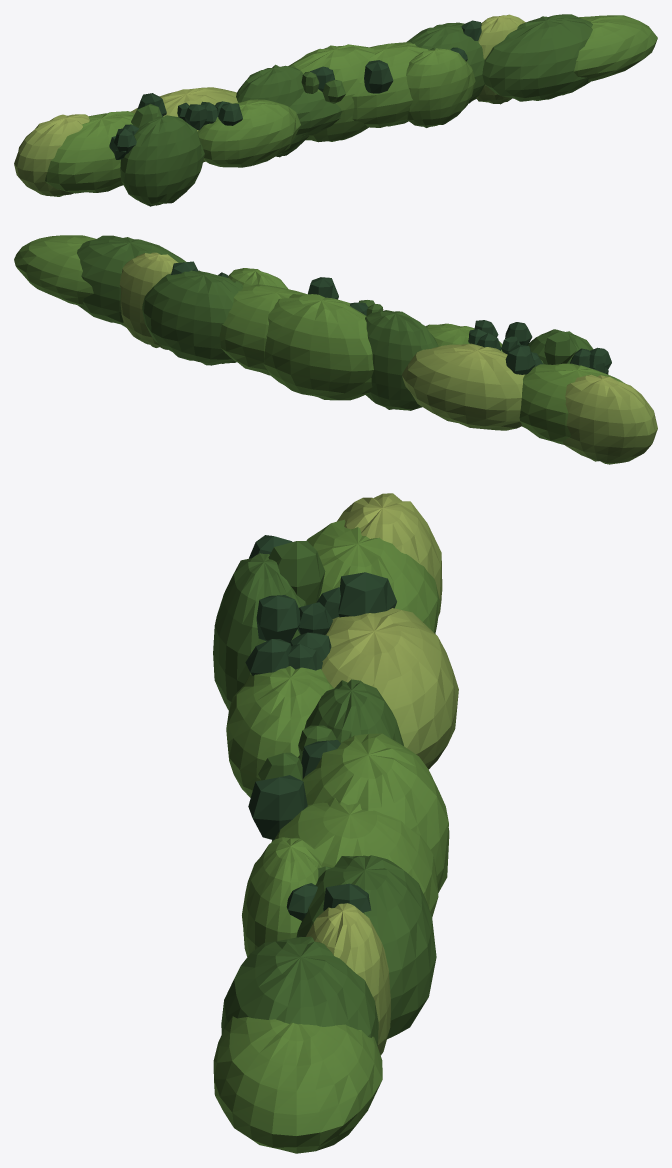
The model's file is hills.glb.
The picture shows the model from 3 angles, top to bottom: view 1: azimuth 30°, elevation 25°; view 2: azimuth 150°, elevation 25°; view 3: azimuth 270°, elevation 25°; orthographic projection. The views are drawn at different scales.
Visible parts, largest first — view 1: hills; view 2: hills; view 3: hills.
Boxes of the visible parts, box(x1,y1,x2,y2) form: hills: box(14, 14, 657, 206); hills: box(14, 235, 657, 464); hills: box(213, 493, 458, 1153).
Size of the model in its own units: 116 by 17.07 by 19.99.
